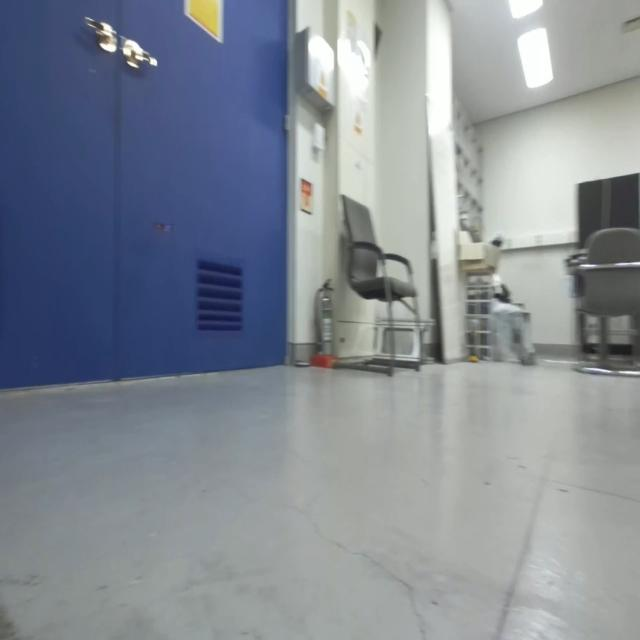crazyflie: (149, 212, 178, 242)
